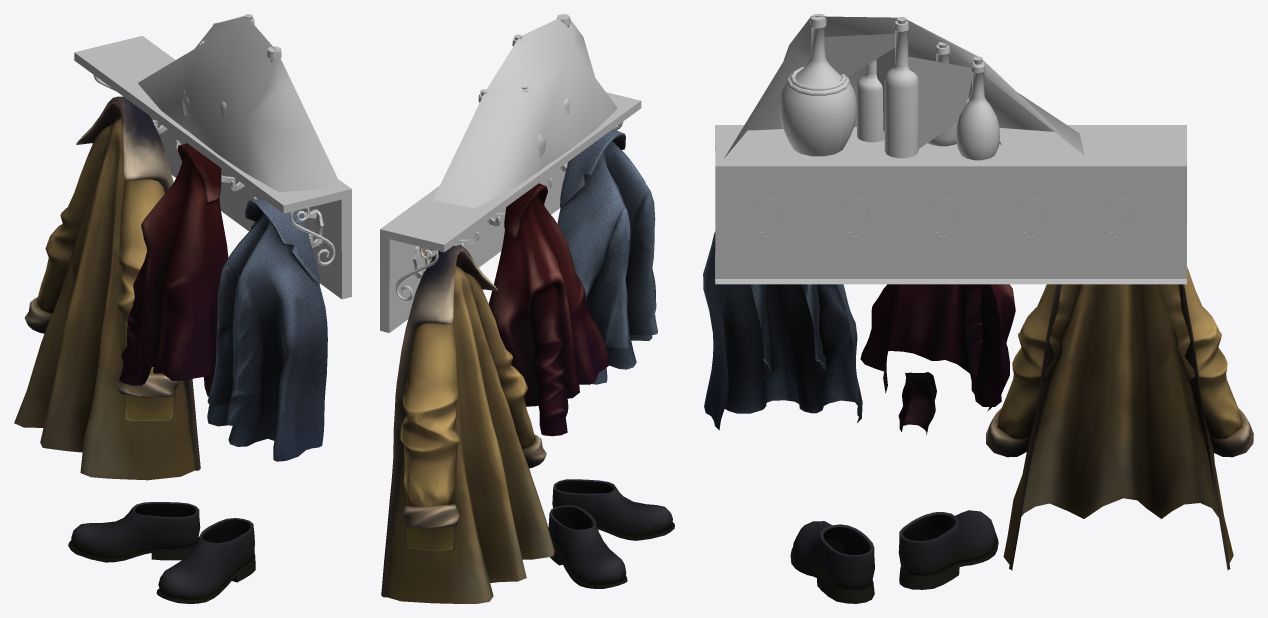
File: Aufhaenger_final.fbx
The picture shows the model from 3 angles, left to right: view 1: azimuth 30°, elevation 25°; view 2: azimuth 150°, elevation 25°; view 3: azimuth 270°, elevation 25°; orthographic projection. The views are drawn at different scales.
Visible parts, largest first — view 1: Jacke1_low, Jacke3_low, Web1, Jacke2_low, Base_low, Shou_low.001, Shou_low, Hake_low, Curve_low; view 2: Jacke1_low, Web1, Jacke2_low, Jacke3_low, Base_low, Shou_low, Shou_low.001, Hake_low, Curve_low; view 3: Base_low, Jacke1_low, Jacke3_low, Web1, Jacke2_low, Bottle5_low, Shou_low.001, Shou_low, Bottle3_low, Bottle1_low, Bottle4_low.
Part boxes in pixels (<box>): Jacke1_low: <box>14,96,200,480</box>; Jacke3_low: <box>207,198,327,461</box>; Web1: <box>138,16,341,192</box>; Jacke2_low: <box>120,143,228,396</box>; Base_low: <box>74,36,351,299</box>; Shou_low.001: <box>68,502,200,562</box>; Shou_low: <box>156,518,255,603</box>; Hake_low: <box>153,120,323,247</box>; Curve_low: <box>93,75,335,265</box>; Jacke1_low: <box>381,245,554,603</box>; Web1: <box>433,14,617,207</box>; Jacke2_low: <box>488,183,609,436</box>; Jacke3_low: <box>557,129,657,384</box>; Base_low: <box>380,92,641,332</box>; Shou_low: <box>552,479,674,540</box>; Shou_low.001: <box>548,505,627,588</box>; Hake_low: <box>413,162,568,278</box>; Curve_low: <box>395,122,623,301</box>; Base_low: <box>715,125,1186,284</box>; Jacke1_low: <box>986,267,1253,570</box>; Jacke3_low: <box>703,231,862,430</box>; Web1: <box>724,16,1084,158</box>; Jacke2_low: <box>860,284,1015,434</box>; Bottle5_low: <box>779,14,857,156</box>; Shou_low.001: <box>898,510,998,589</box>; Shou_low: <box>790,521,874,603</box>; Bottle3_low: <box>884,20,918,158</box>; Bottle1_low: <box>956,62,999,160</box>; Bottle4_low: <box>857,59,884,142</box>.
Size of the model in its own units: 122 by 370 by 310.
